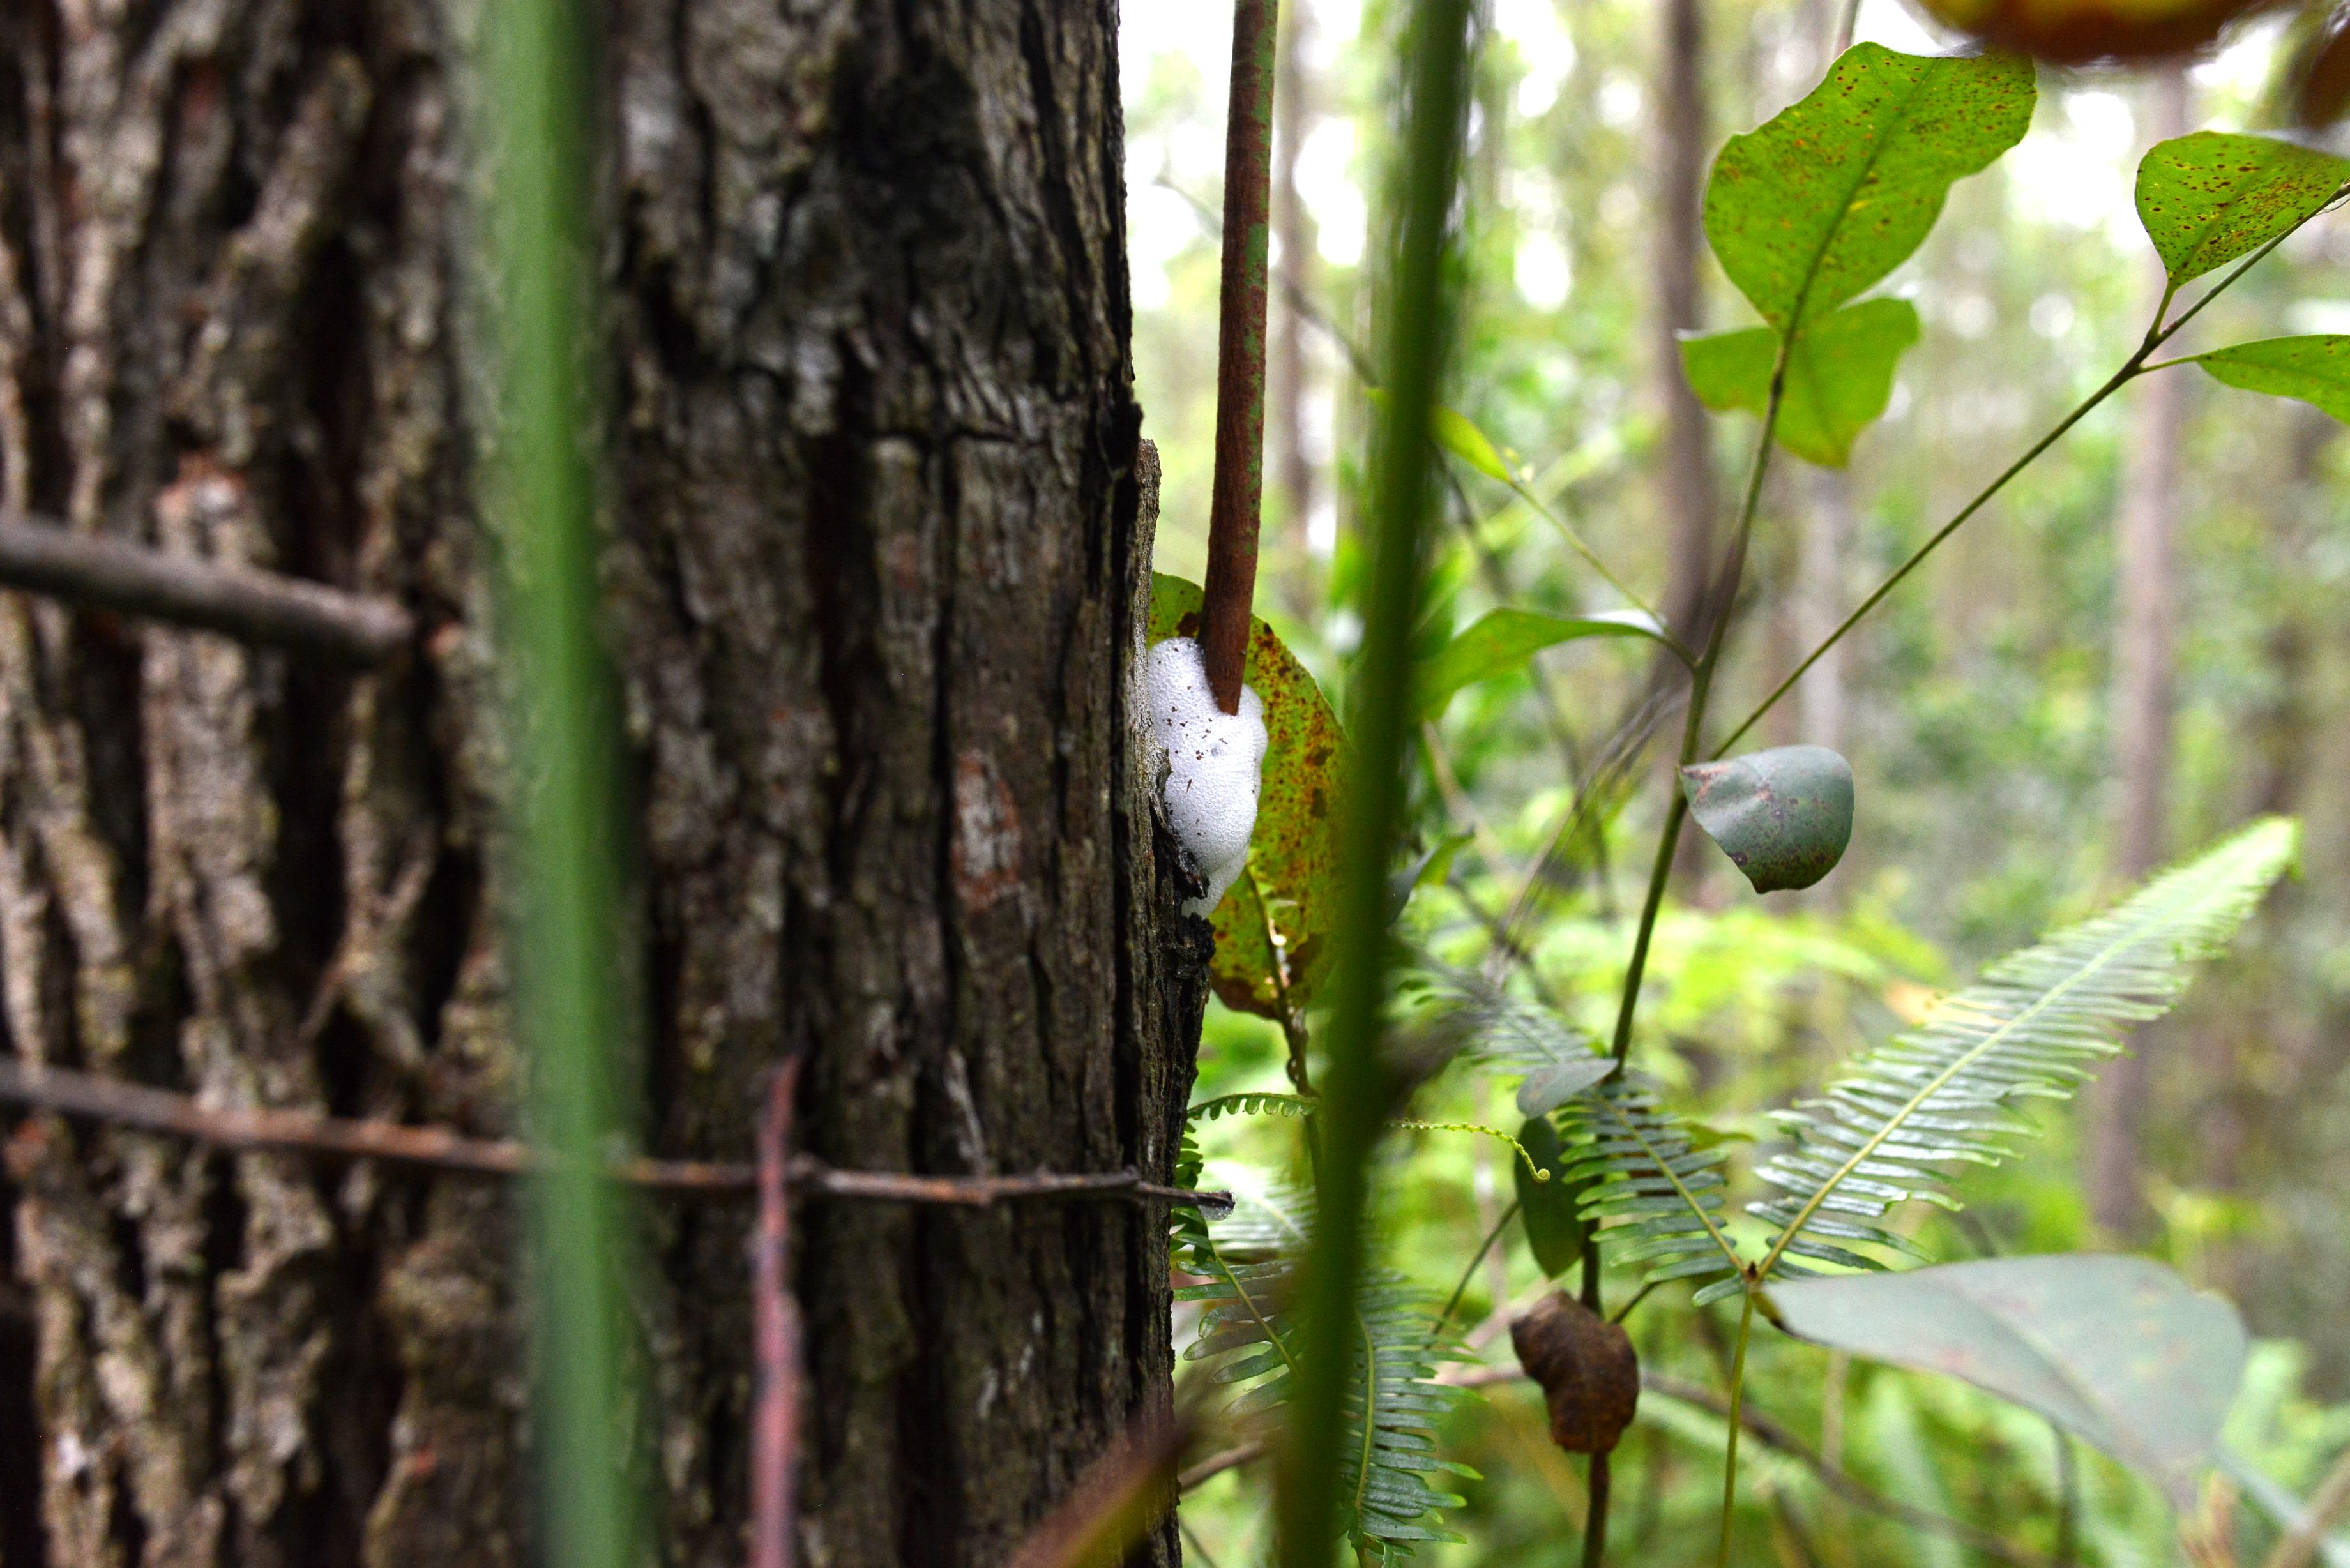Ceratocystis - Bubble: (1115, 597, 1267, 905)
